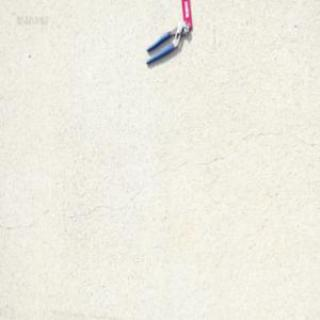LuggageTagtrack_idkeyframe: (180, 0, 192, 31)
Pliertrack_idkeyframe: (144, 19, 189, 65)
